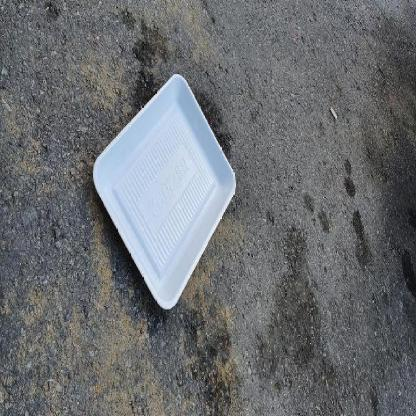Glass Cup: (93, 73, 236, 312), (93, 74, 236, 310)
